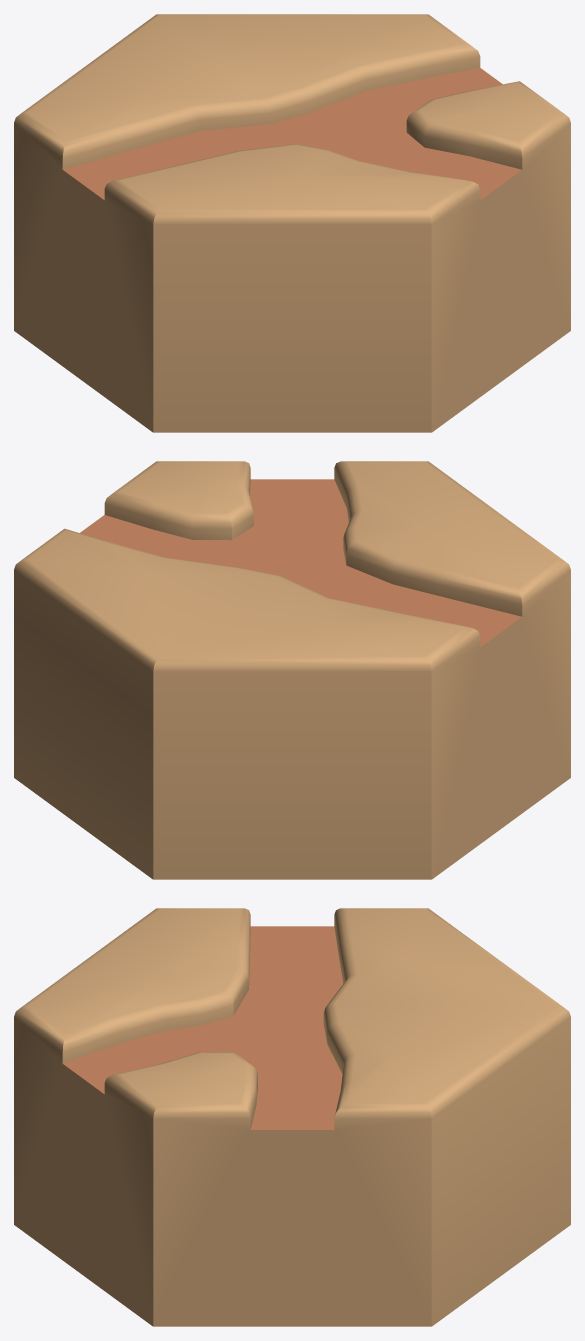
Rendered from hex_sand_roadE.glb.
The picture shows the model from 3 angles, top to bottom: view 1: azimuth 30°, elevation 25°; view 2: azimuth 150°, elevation 25°; view 3: azimuth 270°, elevation 25°; orthographic projection.
Parts seen in each view (by area): view 1: hex_sand_roadE; view 2: hex_sand_roadE; view 3: hex_sand_roadE.
Part boxes in pixels (x1=…): hex_sand_roadE: x1=14, y1=14, x2=570, y2=432; hex_sand_roadE: x1=14, y1=461, x2=570, y2=879; hex_sand_roadE: x1=14, y1=908, x2=570, y2=1326.
Bounding box in the file's own units: 2 × 1 × 2.31.
